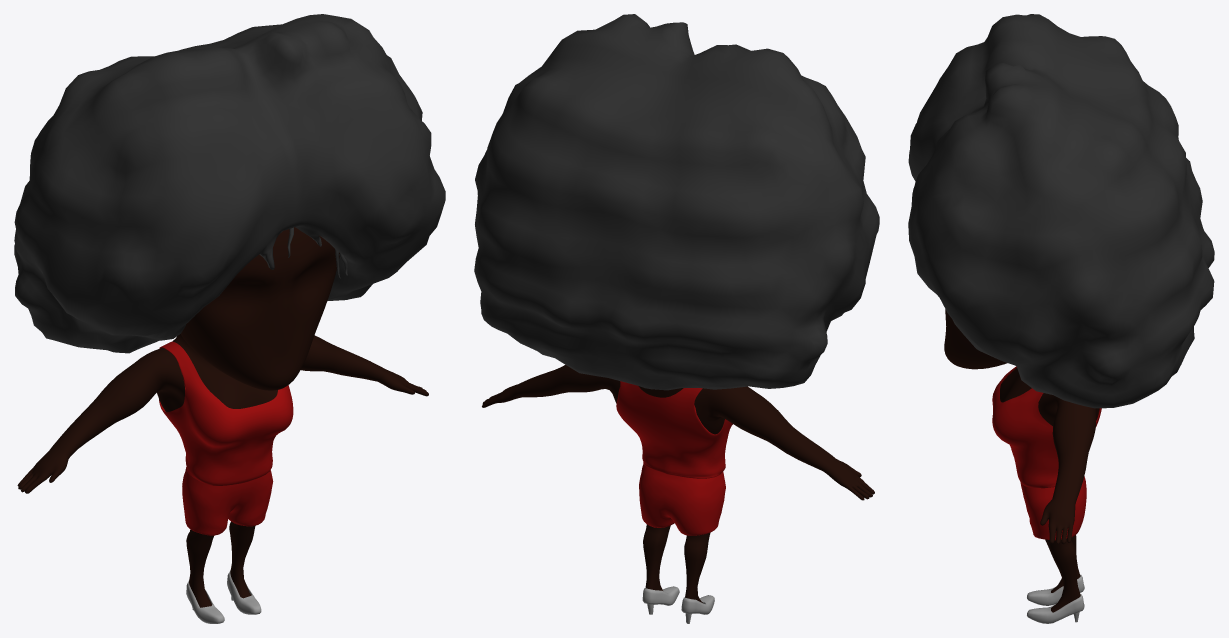
The model's file is affro_girl_updated_.FBX.
3 renders of one model, left to right at view 1: azimuth 30°, elevation 25°; view 2: azimuth 150°, elevation 25°; view 3: azimuth 270°, elevation 25°, orthographic. The views are drawn at different scales.
Visible parts, largest first — view 1: Group64549, Group39515, Object001, Group17348, Group64551; view 2: Group64549, Group39515, Object001, Group17348, Group64551; view 3: Group64549, Group39515, Object001, Group17348, Group64551.
Boxes of the visible parts, bbox=[...] form: Group64549: bbox=[14, 14, 445, 353]; Group39515: bbox=[17, 227, 428, 607]; Object001: bbox=[159, 341, 293, 485]; Group17348: bbox=[182, 467, 273, 535]; Group64551: bbox=[186, 570, 261, 623]; Group64549: bbox=[474, 14, 879, 390]; Group39515: bbox=[482, 365, 874, 603]; Object001: bbox=[616, 381, 732, 478]; Group17348: bbox=[639, 464, 725, 535]; Group64551: bbox=[642, 586, 714, 623]; Group64549: bbox=[908, 14, 1214, 408]; Group39515: bbox=[944, 309, 1099, 612]; Object001: bbox=[992, 366, 1101, 488]; Group17348: bbox=[1020, 476, 1086, 540]; Group64551: bbox=[1027, 574, 1084, 623].
Bounding box in the file's own units: 51.28 × 71.17 × 35.14.
